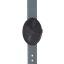watch: (21, 17, 44, 47)
